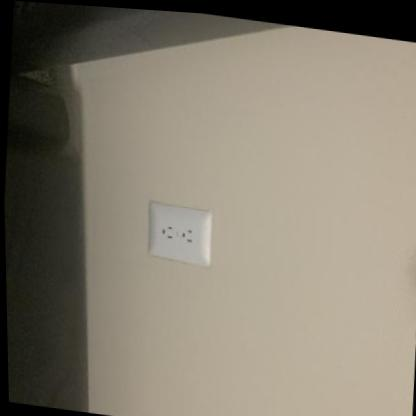OUTLET: (145, 199, 214, 266)
